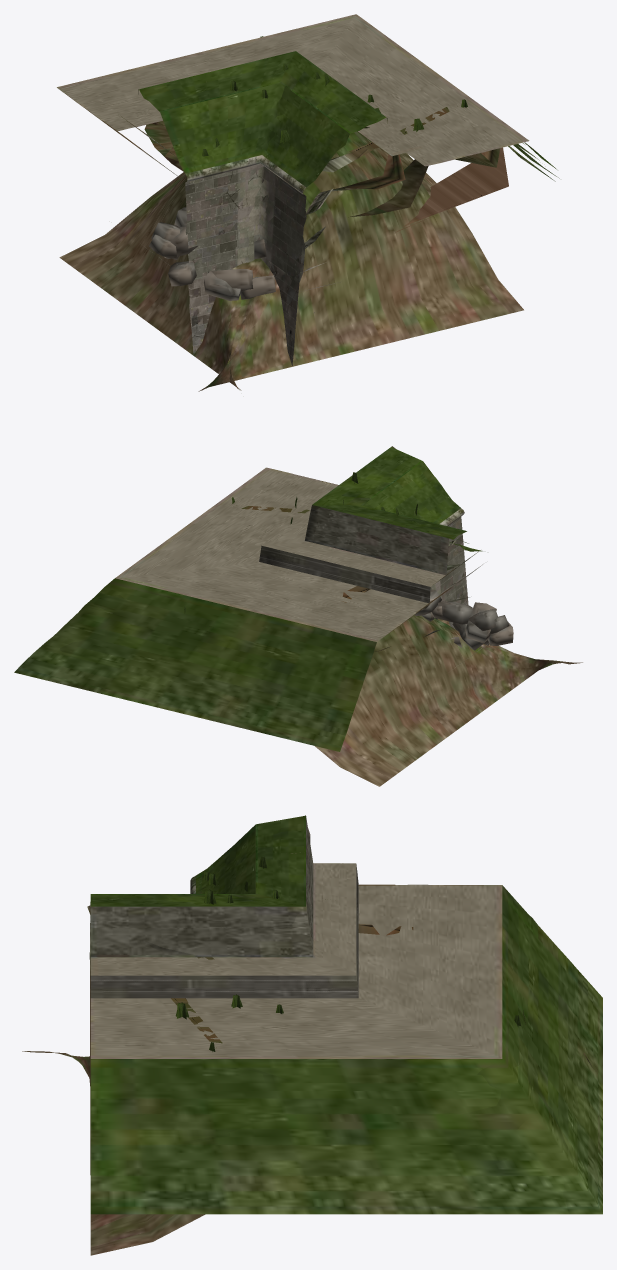
The model's file is starfort_flank_junction_hero.glb.
The picture shows the model from 3 angles, top to bottom: view 1: azimuth 30°, elevation 25°; view 2: azimuth 150°, elevation 25°; view 3: azimuth 270°, elevation 25°; orthographic projection. The views are drawn at different scales.
Visible parts, largest first — view 1: breached, intact, cracked; view 2: intact, breached, cracked; view 3: intact, cracked, breached.
Part boxes in pixels (box(x1,y1,x2,y2)): breached: box(59, 60, 559, 391); intact: box(57, 14, 520, 365); cracked: box(57, 14, 538, 362); intact: box(54, 447, 466, 751); breached: box(186, 461, 582, 786); cracked: box(14, 455, 468, 751); intact: box(90, 816, 602, 1214); cracked: box(90, 815, 602, 1214); breached: box(22, 817, 602, 1255).
Size of what is drawn, in the model's own units: 12.3 by 6.56 by 12.3.
Materials: 2 (2 with a texture image).
